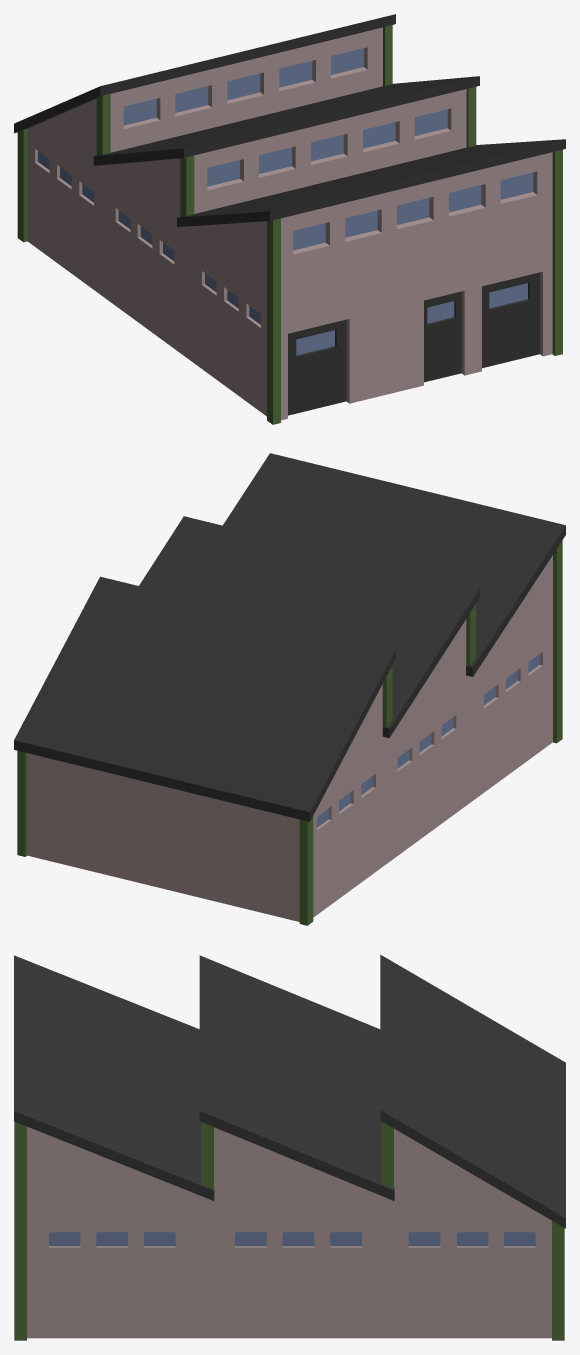
The model's file is FactoryBuilding_02.fbx.
3 views of the same model, one above another, from view 1: azimuth 30°, elevation 25°; view 2: azimuth 150°, elevation 25°; view 3: azimuth 270°, elevation 25° (orthographic). The views are drawn at different scales.
Visible parts, largest first — view 1: FactoryBuilding_02; view 2: FactoryBuilding_02; view 3: FactoryBuilding_02.
Part boxes in pixels (bbox=[...]): FactoryBuilding_02: bbox=[14, 14, 565, 424]; FactoryBuilding_02: bbox=[14, 453, 565, 925]; FactoryBuilding_02: bbox=[14, 954, 565, 1340].
Bounding box in the file's own units: 12.74 × 8.85 × 19.1.
